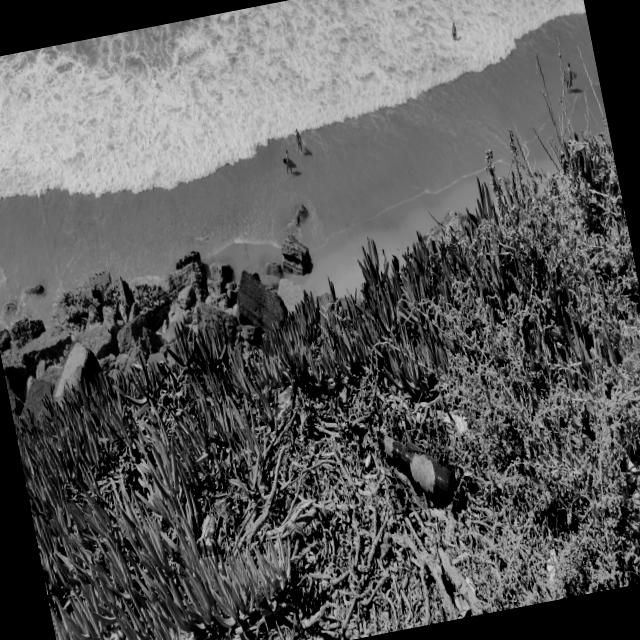Glass bottle: (378, 431, 456, 505)
Paper bag: (197, 513, 215, 558)
Plastic film: (454, 596, 471, 616)
Unlabeled litter: (548, 550, 557, 580)
